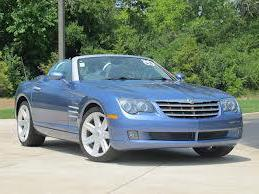Car: (12, 46, 248, 171)
